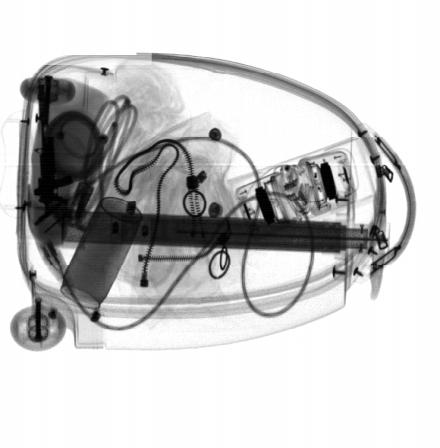Gun: (31, 79, 75, 208)
